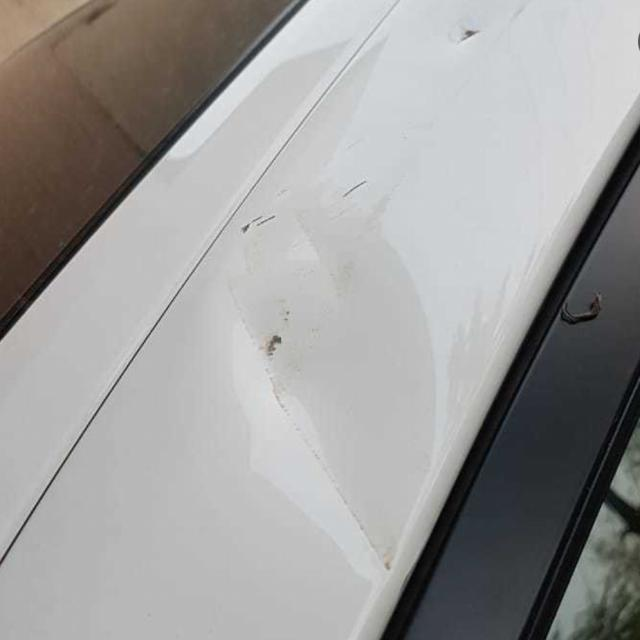dents: (196, 213, 455, 584)
